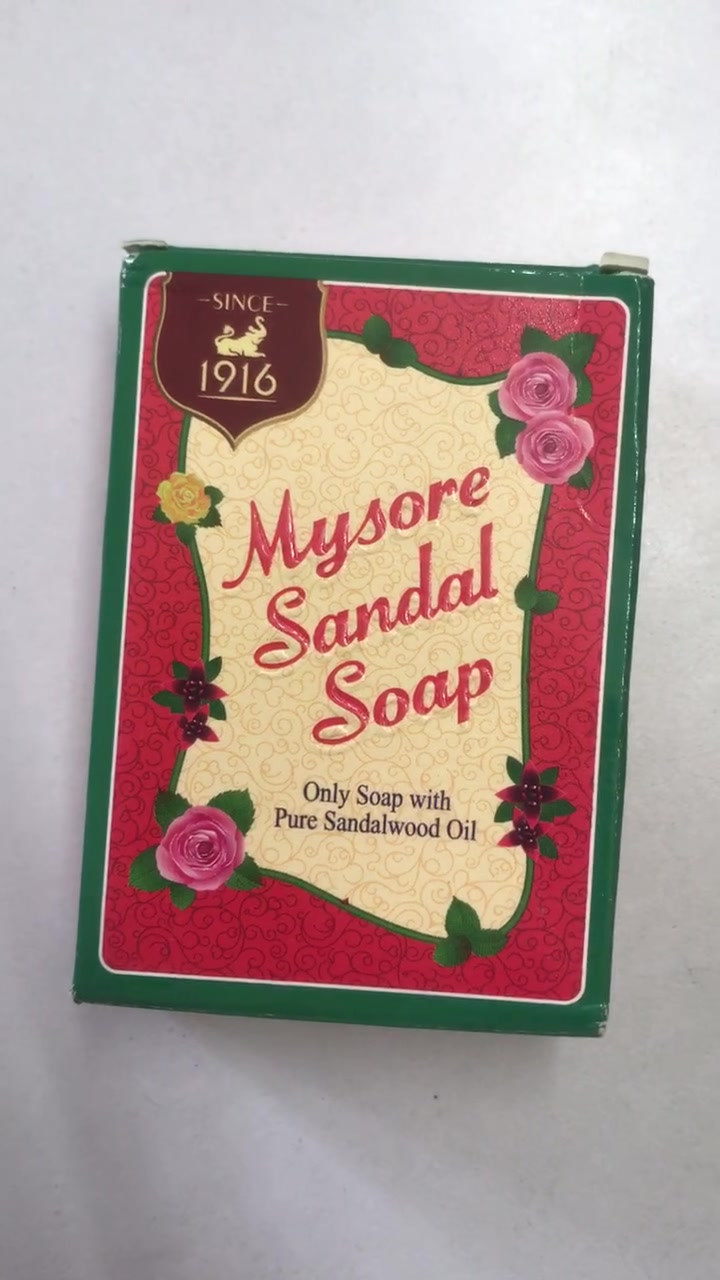mysore sandal soap: (74, 246, 662, 1042)
